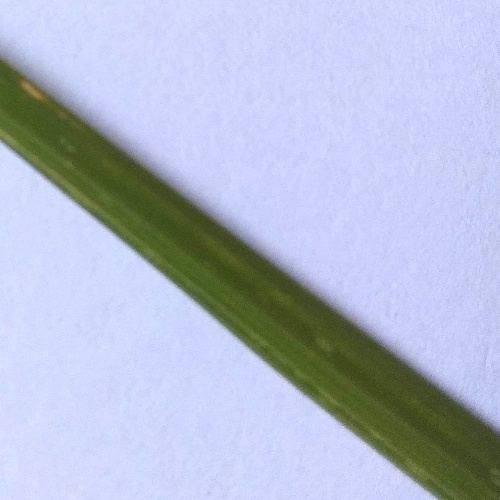Busuk Leher: (17, 68, 46, 103)
